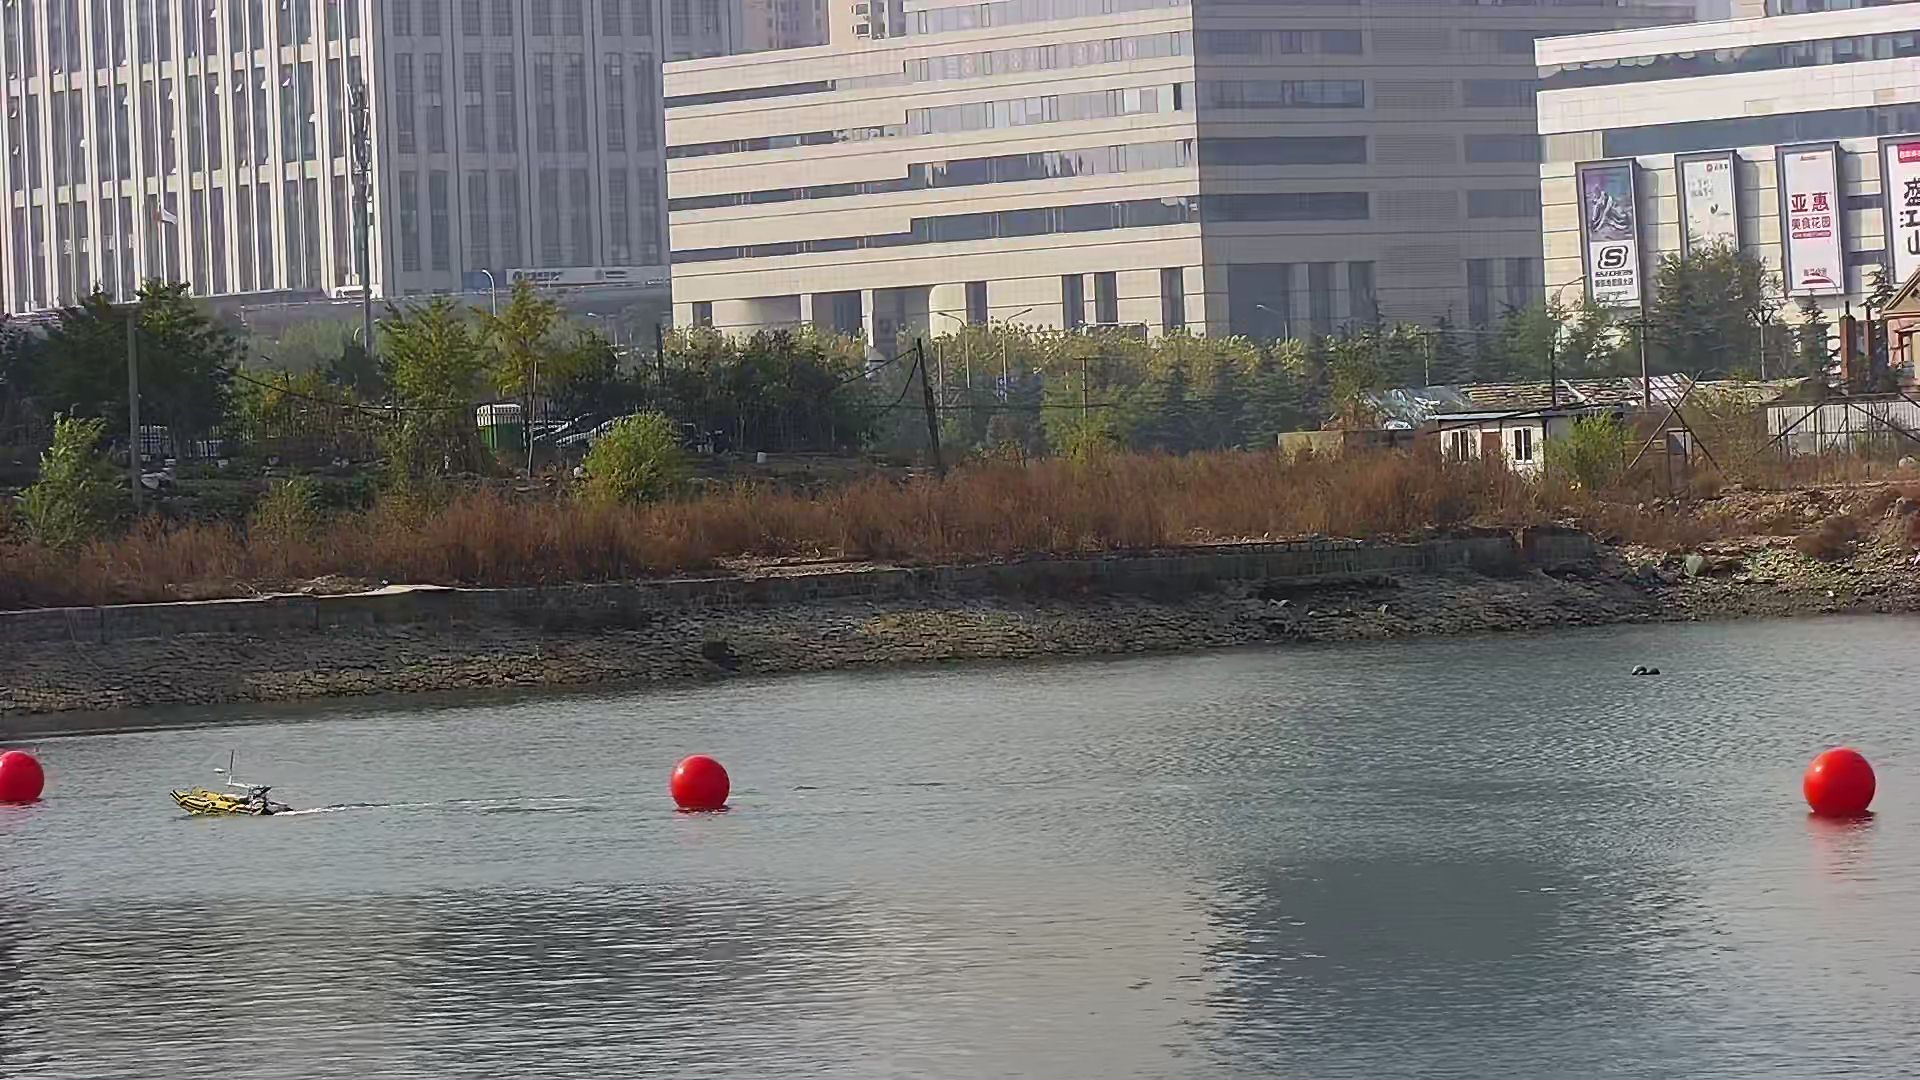ball: (1804, 745, 1880, 820), (667, 756, 735, 814), (1, 750, 47, 803)
boat: (171, 771, 290, 818)
rubbish: (1629, 665, 1662, 679)
